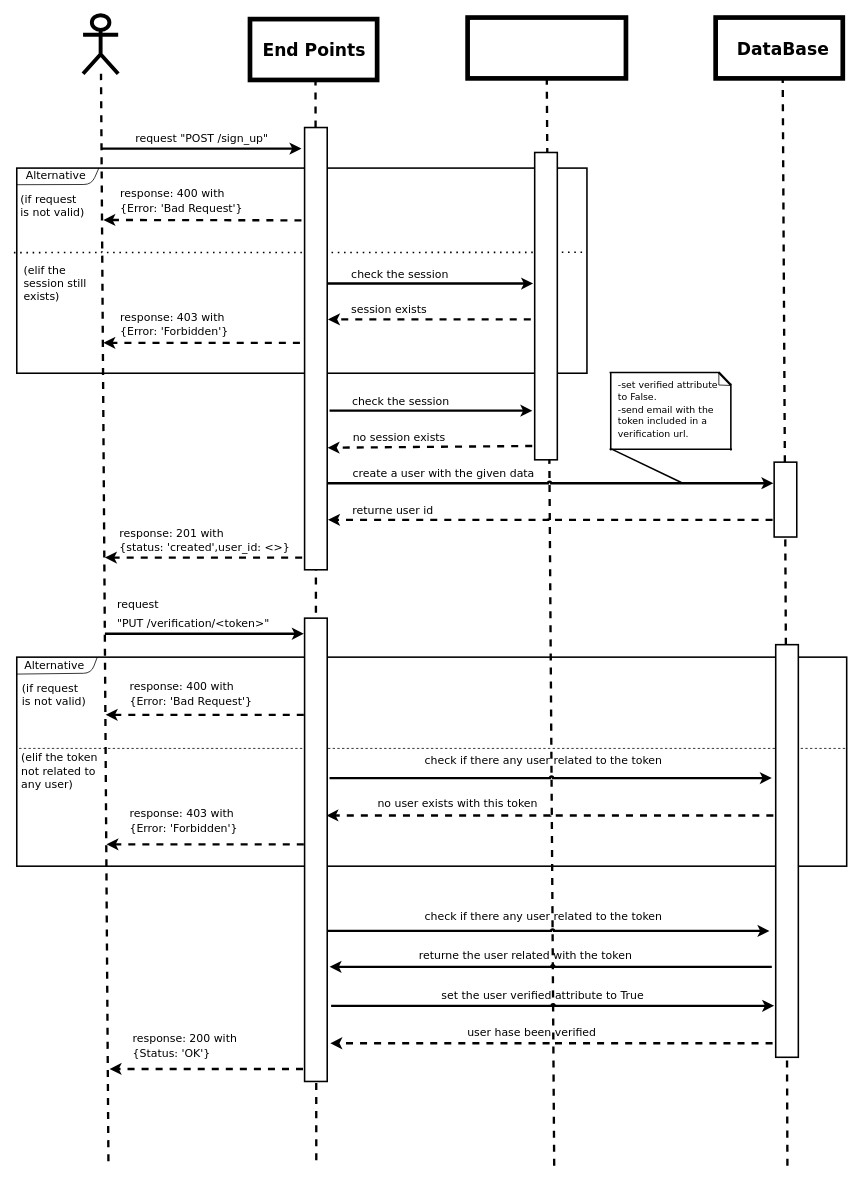
Some shapes in this 862 by 1182 pixel diagram are drawn without their labels. Each missing label, with the centre of its shape:
"Authentication" belongs at point (546, 47).
"User" belongs at point (100, 44).
